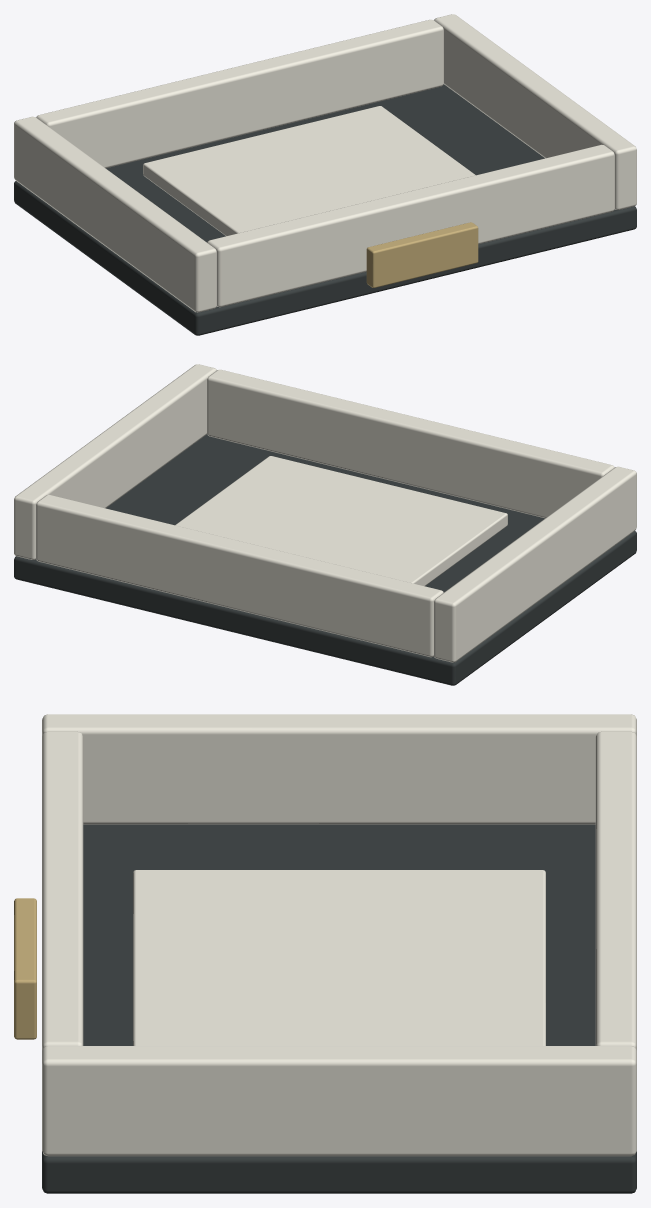
The model's file is city-courthouse-and-records-office-city-courthouse-and-82f8db07__30986.glb.
The picture shows the model from 3 angles, top to bottom: view 1: azimuth 30°, elevation 25°; view 2: azimuth 150°, elevation 25°; view 3: azimuth 270°, elevation 25°; orthographic projection. The views are drawn at different scales.
Parts seen in each view (by area): view 1: city-courthouse-and-records-office-file-issue-tray; view 2: city-courthouse-and-records-office-file-issue-tray; view 3: city-courthouse-and-records-office-file-issue-tray.
Part boxes in pixels (x1,y1,x2,y2): city-courthouse-and-records-office-file-issue-tray: (14, 14, 636, 335); city-courthouse-and-records-office-file-issue-tray: (14, 364, 636, 685); city-courthouse-and-records-office-file-issue-tray: (14, 714, 636, 1193).
Bounding box in the file's own units: 0.5 × 0.09 × 0.377.
